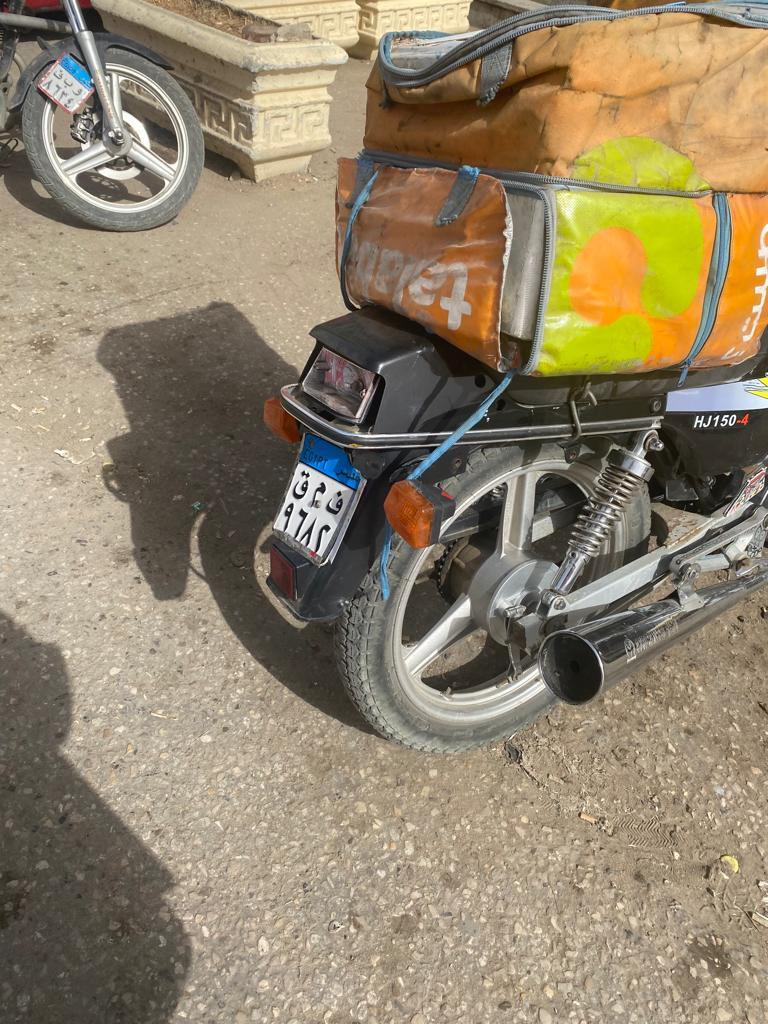License Plate: (270, 429, 363, 564)
